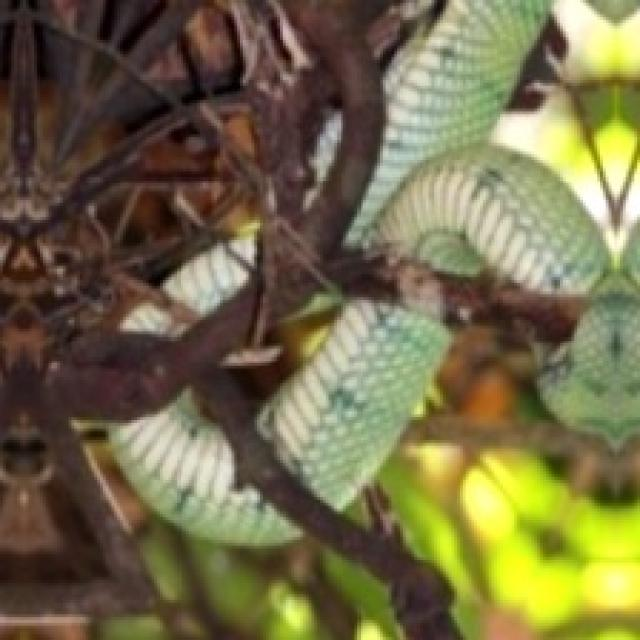north ph temple pitviper: (360, 0, 603, 289), (257, 283, 446, 506), (111, 389, 294, 543)
